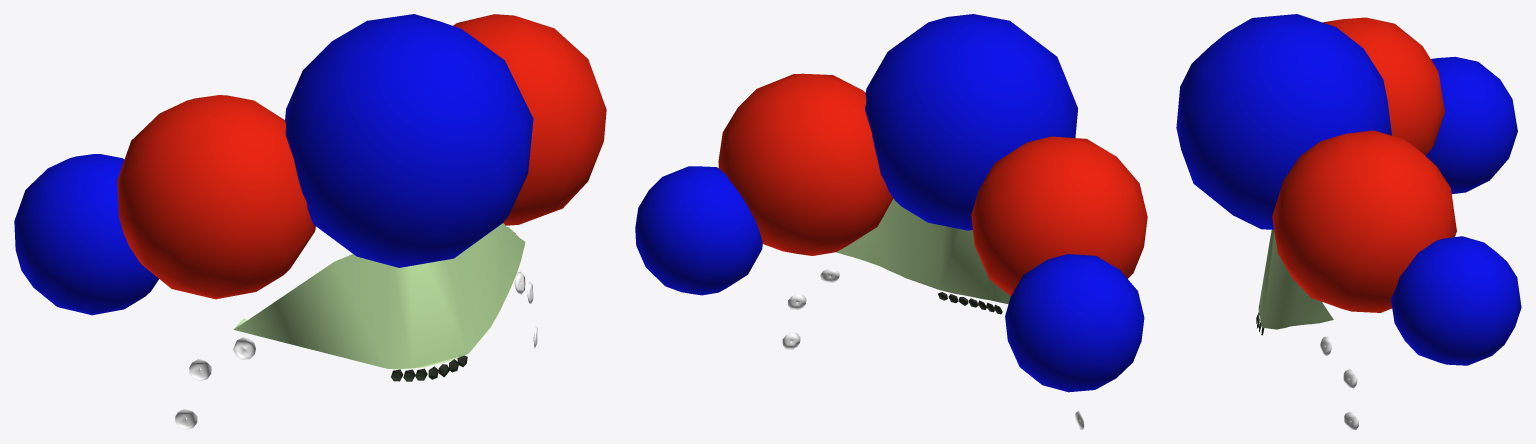
Rendered from Pompom.gltf.
3 views of the same model, side by side, from view 1: azimuth 30°, elevation 25°; view 2: azimuth 150°, elevation 25°; view 3: azimuth 270°, elevation 25° (orthographic). The views are drawn at different scales.
Visible parts, largest first — view 1: Sphere.001, Sphere.004, Plane, Sphere.003, Sphere.002; view 2: Sphere.001, Sphere.002, Sphere.004, Sphere.003, Sphere.005, Plane; view 3: Sphere.001, Sphere.002, Sphere.005, Sphere.003, Sphere.004, Plane.
Boxes of the visible parts, x1,y1,x2,y2 form: Sphere.001: [285, 14, 533, 267]; Sphere.004: [117, 95, 315, 299]; Plane: [234, 223, 525, 369]; Sphere.003: [14, 154, 158, 315]; Sphere.002: [453, 14, 606, 225]; Sphere.001: [865, 14, 1077, 230]; Sphere.002: [718, 73, 893, 255]; Sphere.004: [971, 136, 1147, 295]; Sphere.003: [1005, 254, 1144, 392]; Sphere.005: [635, 166, 762, 295]; Plane: [836, 199, 1010, 304]; Sphere.001: [1176, 14, 1391, 229]; Sphere.002: [1272, 130, 1456, 312]; Sphere.005: [1391, 236, 1521, 365]; Sphere.003: [1425, 56, 1517, 193]; Sphere.004: [1322, 17, 1444, 155]; Plane: [1258, 229, 1333, 329].
Size of the model in its own units: 1.18 by 0.7811 by 0.7212.
